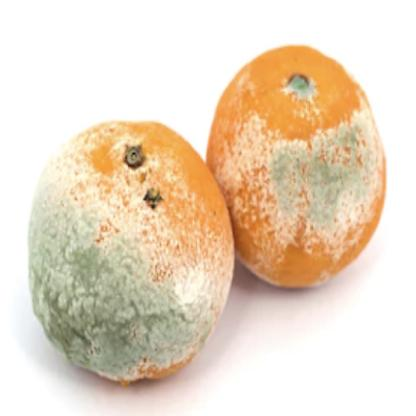rotten: (30, 41, 387, 391)
